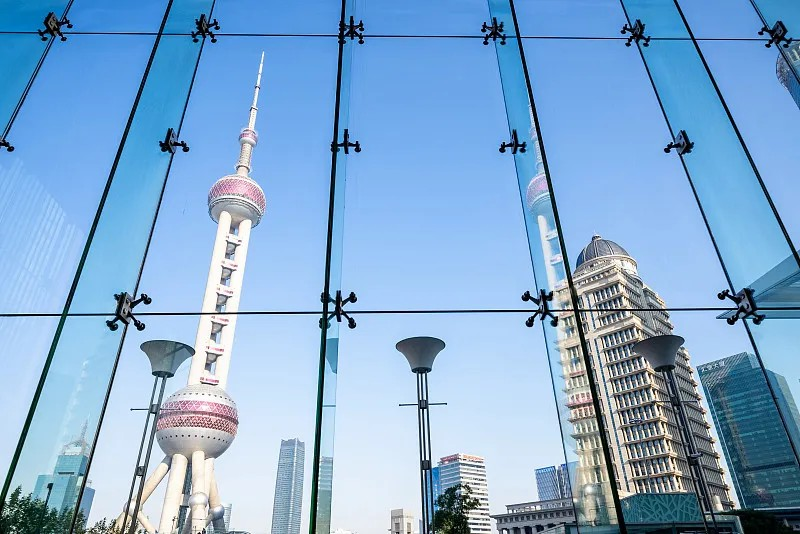Oriental: (111, 50, 267, 534)
